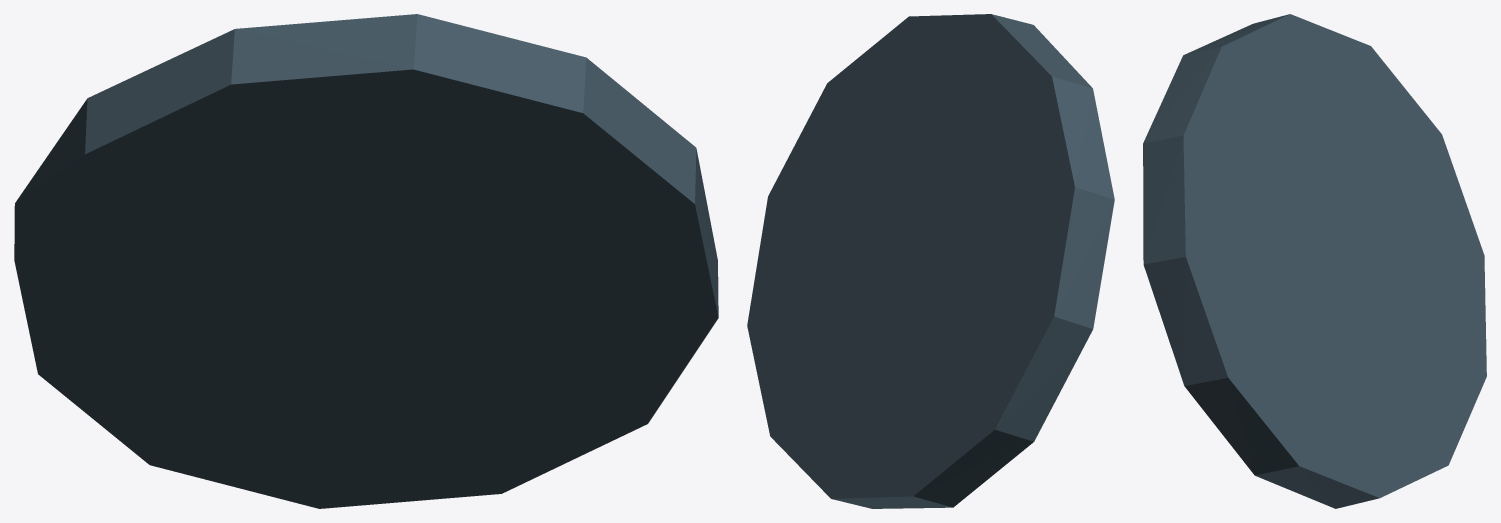
The model's file is astronaut_spawn_group1277767469_lev4.glb.
The picture shows the model from 3 angles, left to right: view 1: azimuth 30°, elevation 25°; view 2: azimuth 150°, elevation 25°; view 3: azimuth 270°, elevation 25°; orthographic projection. The views are drawn at different scales.
Parts seen in each view (by area): view 1: astronaut_spawn_group1277767469_lev4; view 2: astronaut_spawn_group1277767469_lev4; view 3: astronaut_spawn_group1277767469_lev4.
Boxes of the visible parts, x1,y1,x2,y2 form: astronaut_spawn_group1277767469_lev4: [14, 14, 718, 508]; astronaut_spawn_group1277767469_lev4: [747, 14, 1114, 508]; astronaut_spawn_group1277767469_lev4: [1143, 14, 1486, 508].
Size of the model in its own units: 0.2124 by 0.2106 by 0.1565.
